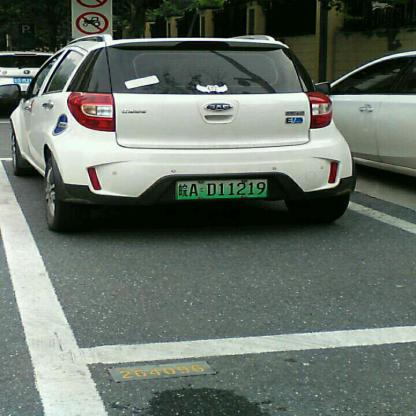lp: (176, 178, 267, 198)
